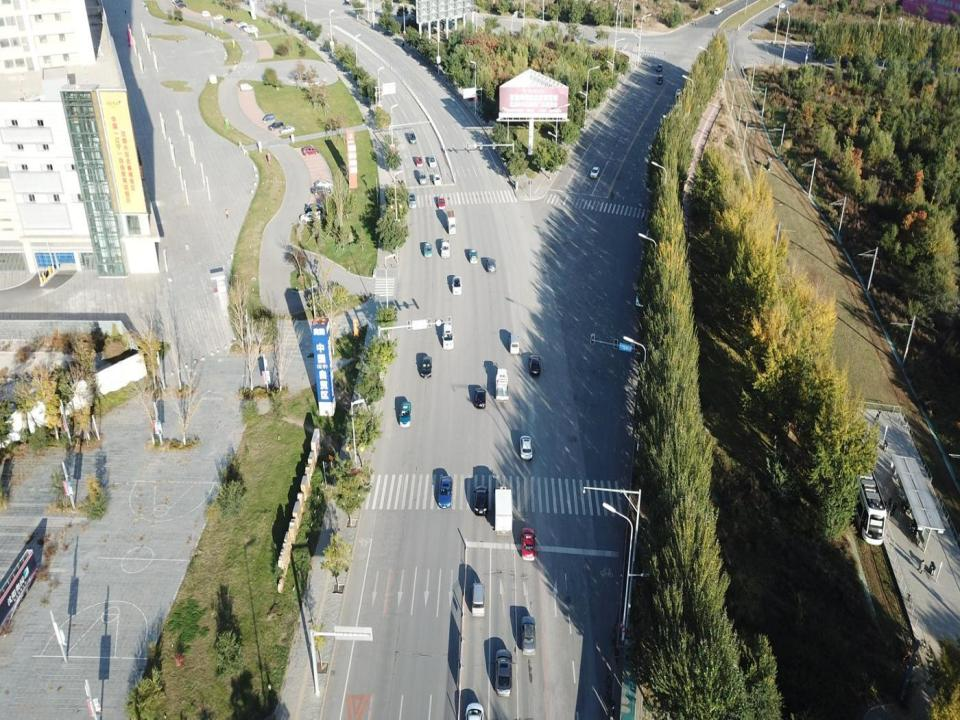car: (494, 651, 512, 696), (520, 618, 536, 655), (520, 529, 537, 562), (438, 474, 452, 508), (474, 484, 488, 516), (305, 203, 327, 219), (399, 401, 412, 428), (298, 212, 322, 226), (520, 435, 533, 460), (466, 703, 486, 719), (528, 354, 540, 378), (444, 323, 454, 350), (474, 388, 487, 408), (422, 356, 432, 378), (310, 185, 330, 195), (451, 277, 462, 295), (267, 120, 283, 132), (300, 146, 318, 156), (485, 257, 496, 273), (314, 179, 333, 188), (422, 241, 432, 258), (279, 124, 294, 135), (441, 241, 449, 260), (468, 248, 478, 263), (635, 292, 644, 307), (408, 193, 416, 209), (590, 164, 599, 178), (414, 154, 423, 168), (432, 174, 442, 186), (262, 114, 274, 124), (436, 196, 445, 209), (428, 155, 436, 168), (408, 130, 416, 143), (419, 172, 426, 185), (239, 24, 251, 31), (212, 14, 223, 21), (223, 17, 234, 24), (243, 25, 254, 32), (714, 6, 722, 15), (246, 27, 258, 33), (656, 74, 663, 84), (236, 22, 247, 28), (655, 62, 662, 71), (779, 1, 785, 10), (675, 88, 681, 96), (177, 4, 186, 9)
truck: (494, 486, 514, 538), (496, 368, 508, 402), (446, 209, 457, 235)
van: (471, 581, 486, 618), (508, 334, 520, 354), (202, 11, 211, 17)
